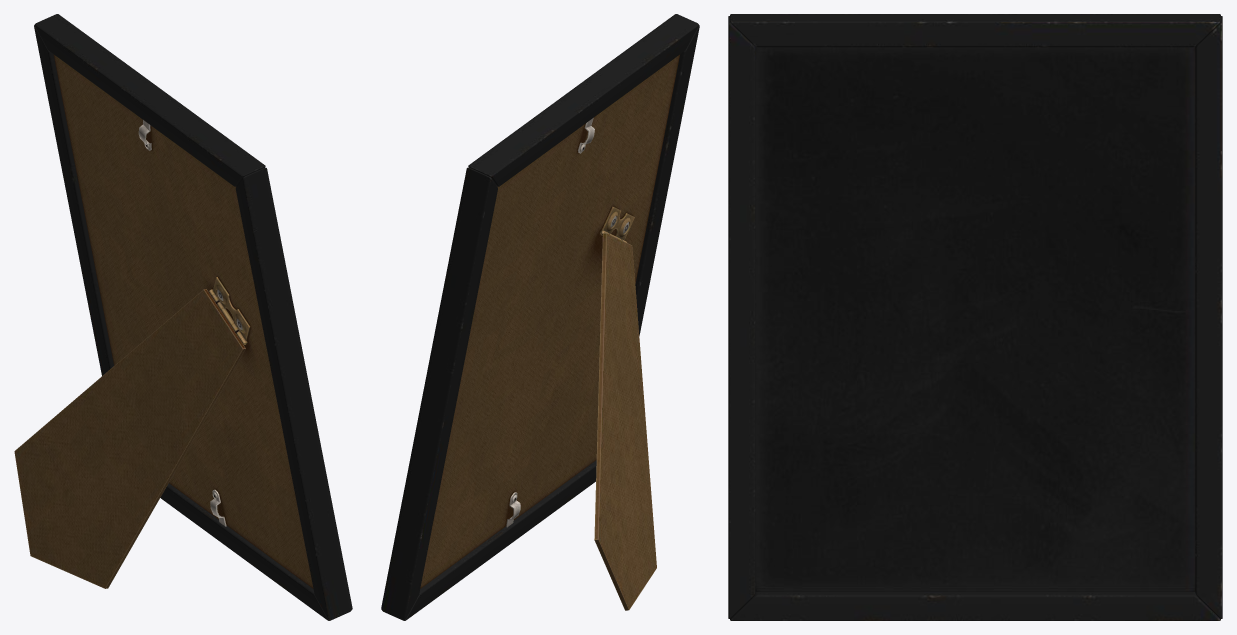
Rendered from standing_picture_frame_01.glb.
The picture shows the model from 3 angles, left to right: view 1: azimuth 30°, elevation 25°; view 2: azimuth 150°, elevation 25°; view 3: azimuth 270°, elevation 25°; orthographic projection. The views are drawn at different scales.
Visible parts, largest first — view 1: standing_picture_frame_01; view 2: standing_picture_frame_01; view 3: standing_picture_frame_01.
Part boxes in pixels (left/top/right/bottom): standing_picture_frame_01: left=14, top=14, right=352, bottom=620; standing_picture_frame_01: left=381, top=14, right=699, bottom=620; standing_picture_frame_01: left=728, top=14, right=1222, bottom=620.
Bounding box in the file's own units: 0.1003 × 0.2497 × 0.2008.
3 materials, 3 textured.
